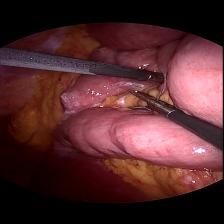Grasper: (114, 87, 174, 114)
